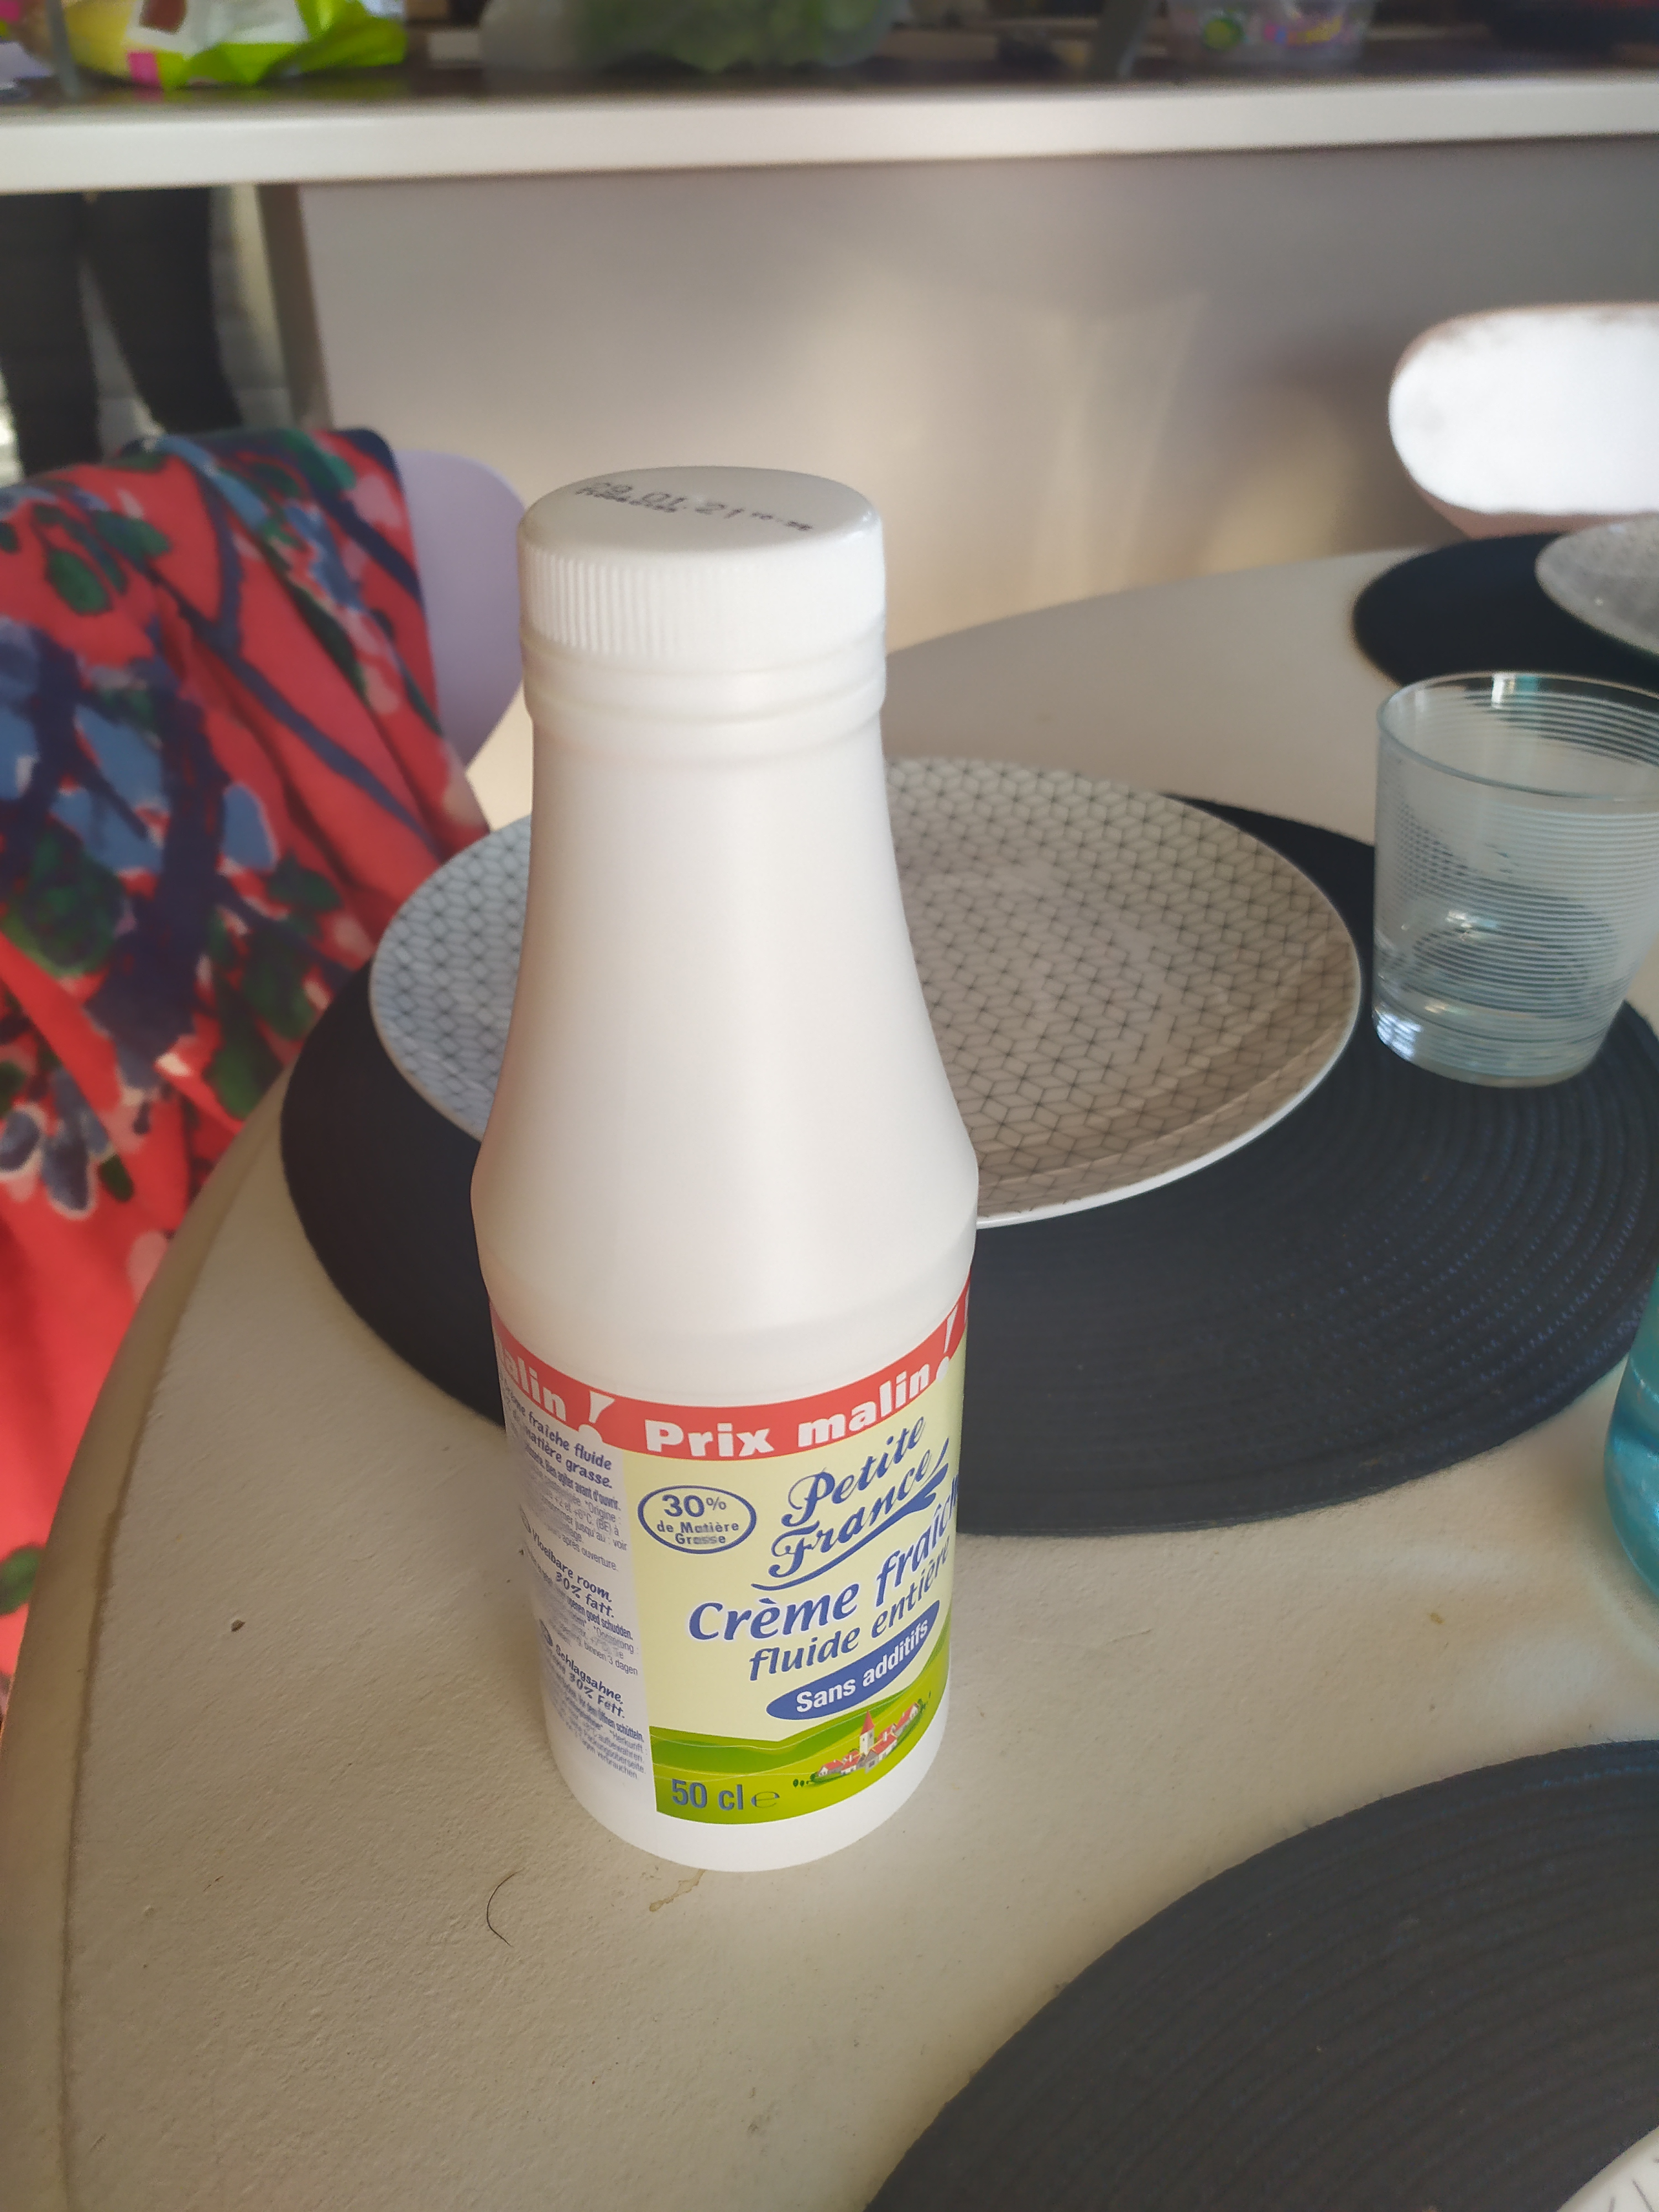bottle: (472, 465, 985, 1881)
